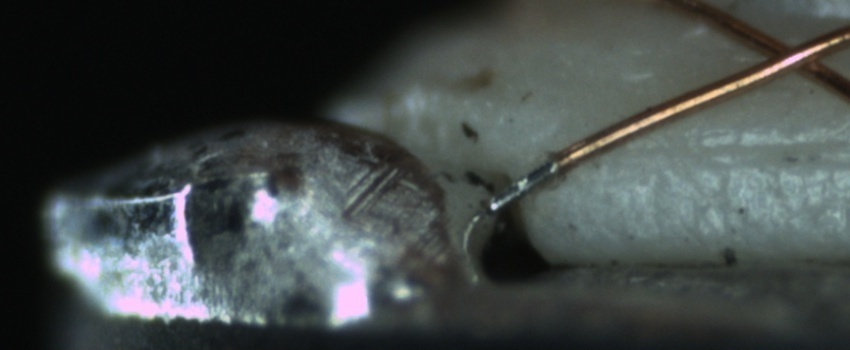CL: (739, 23, 844, 88)
DL: (616, 117, 845, 187)
TS: (487, 158, 559, 213)
